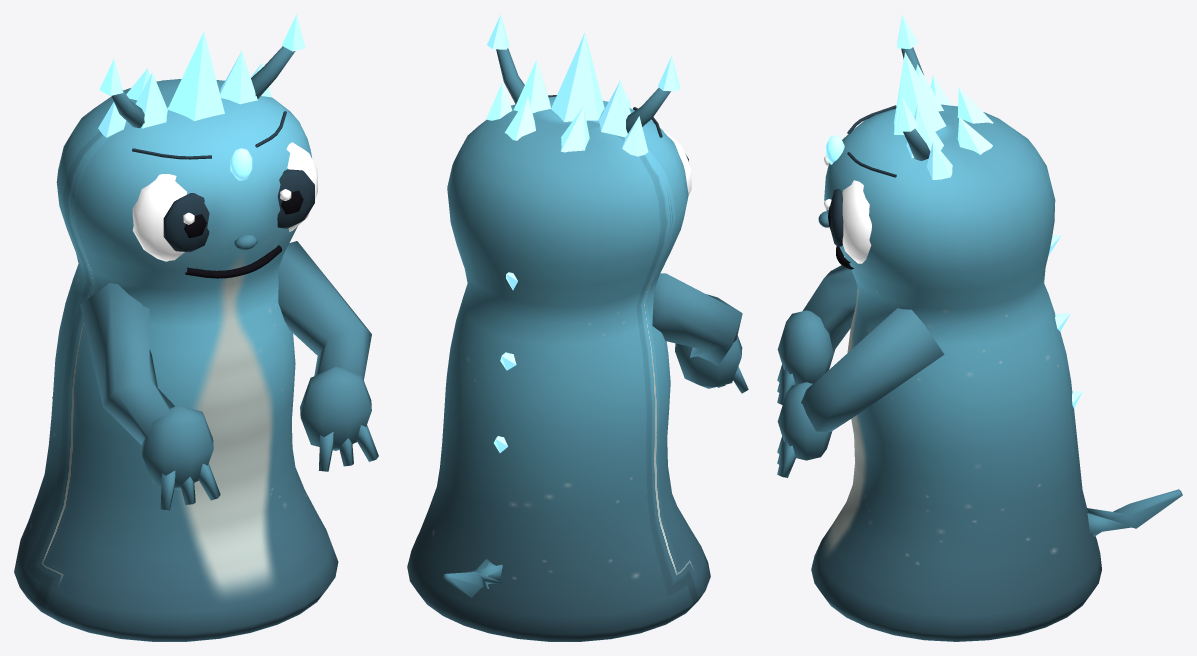
File: eterna_pixar.glb
3 views of the same model, side by side, from view 1: azimuth 30°, elevation 25°; view 2: azimuth 150°, elevation 25°; view 3: azimuth 270°, elevation 25° (orthographic). The views are drawn at different scales.
Parts seen in each view (by area): view 1: eterna_cuerpo; view 2: eterna_cuerpo; view 3: eterna_cuerpo.
Part boxes in pixels (x1,y1,x2,y2): eterna_cuerpo: (14,14,378,641); eterna_cuerpo: (407,14,748,641); eterna_cuerpo: (777,14,1182,641).
Bounding box in the file's own units: 0.3039 × 0.58 × 0.4033.
Materials: 5 (1 with a texture image).
